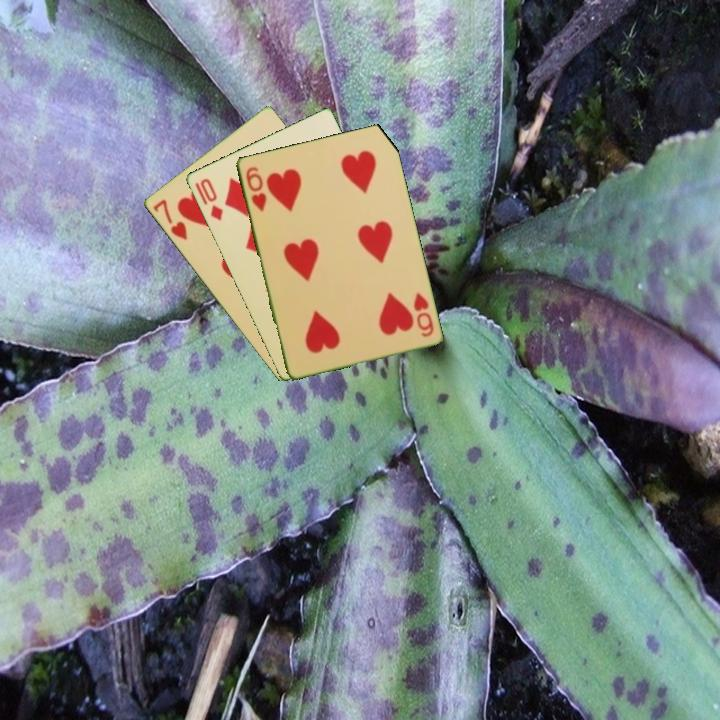10d: (191, 175, 226, 224)
6h: (409, 288, 436, 340), (242, 163, 269, 214)
7h: (149, 196, 190, 243)
